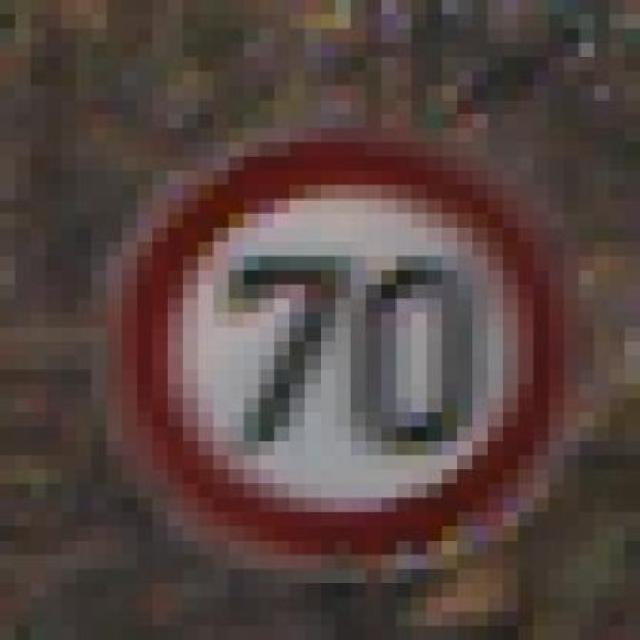forb_speed_over_70: (119, 138, 565, 561)
